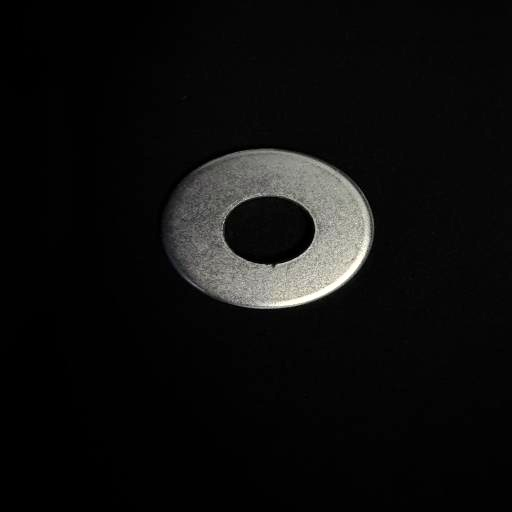Product: (162, 149, 374, 309)
chip off: (263, 259, 288, 274)
